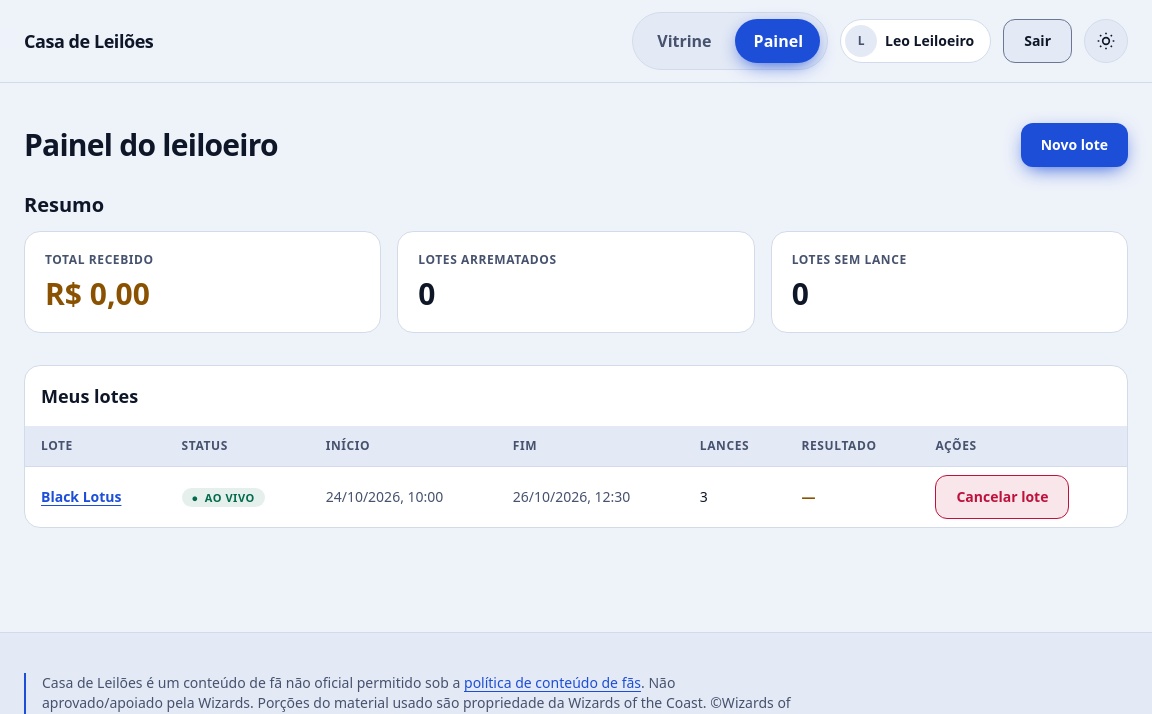
Test: painel: cancelar lote › 404 fecha o diálogo e mostra o alerta
This screenshot has width=1152, height=714.
Click the button with aria-label "Cancelar lote Black Lotus".
click(1002, 497)  # box left=935, top=475, right=1070, bottom=519
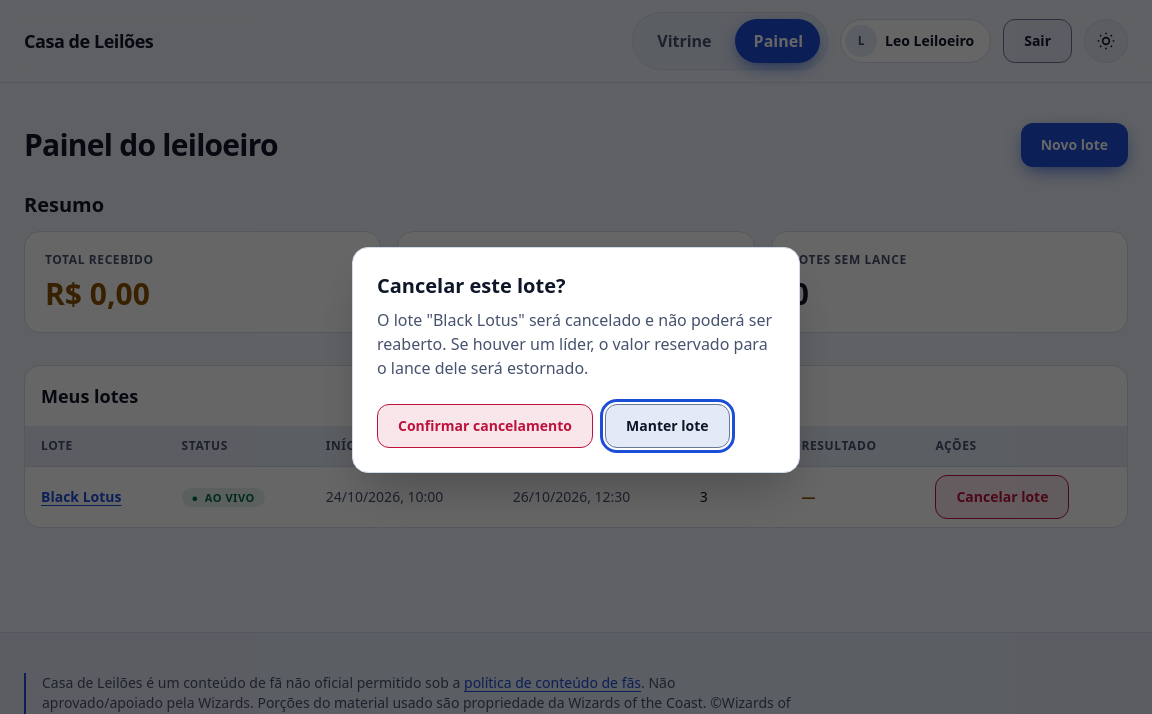
Click the button "Confirmar cancelamento".
click(485, 426)  # box left=377, top=404, right=593, bottom=448
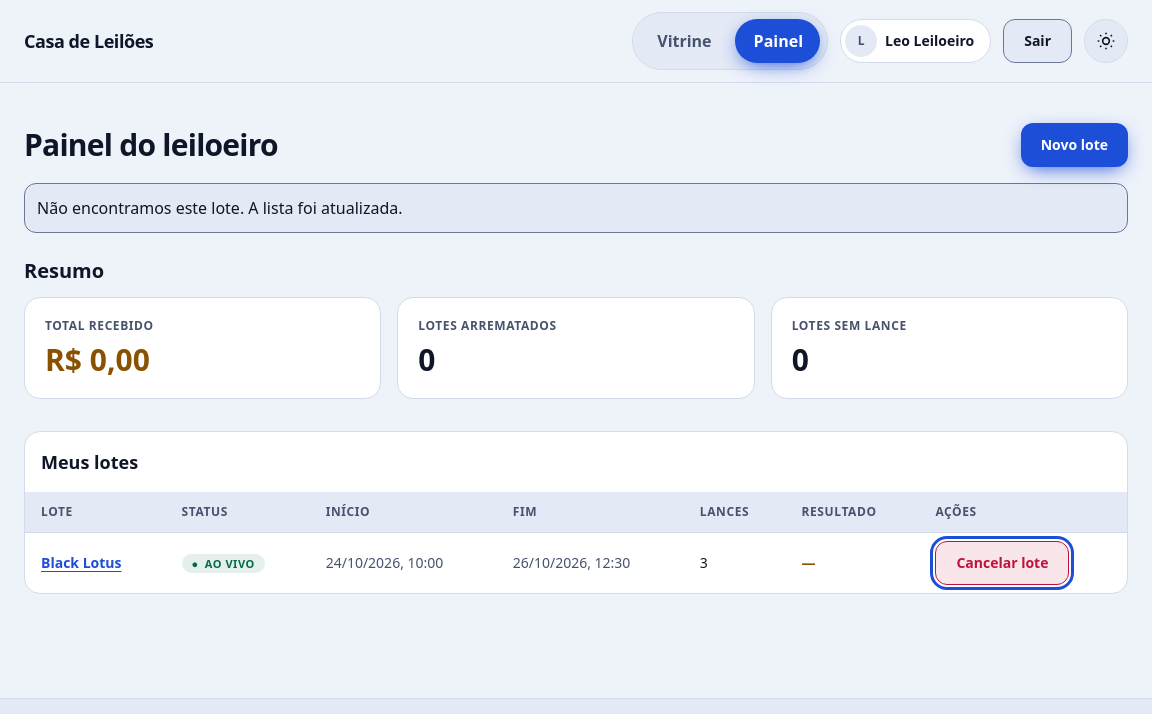
Now the message reads "Não encontramos este lote. A lista foi atualizada.", box left=37, top=197, right=402, bottom=219
Now the dialog is gone
